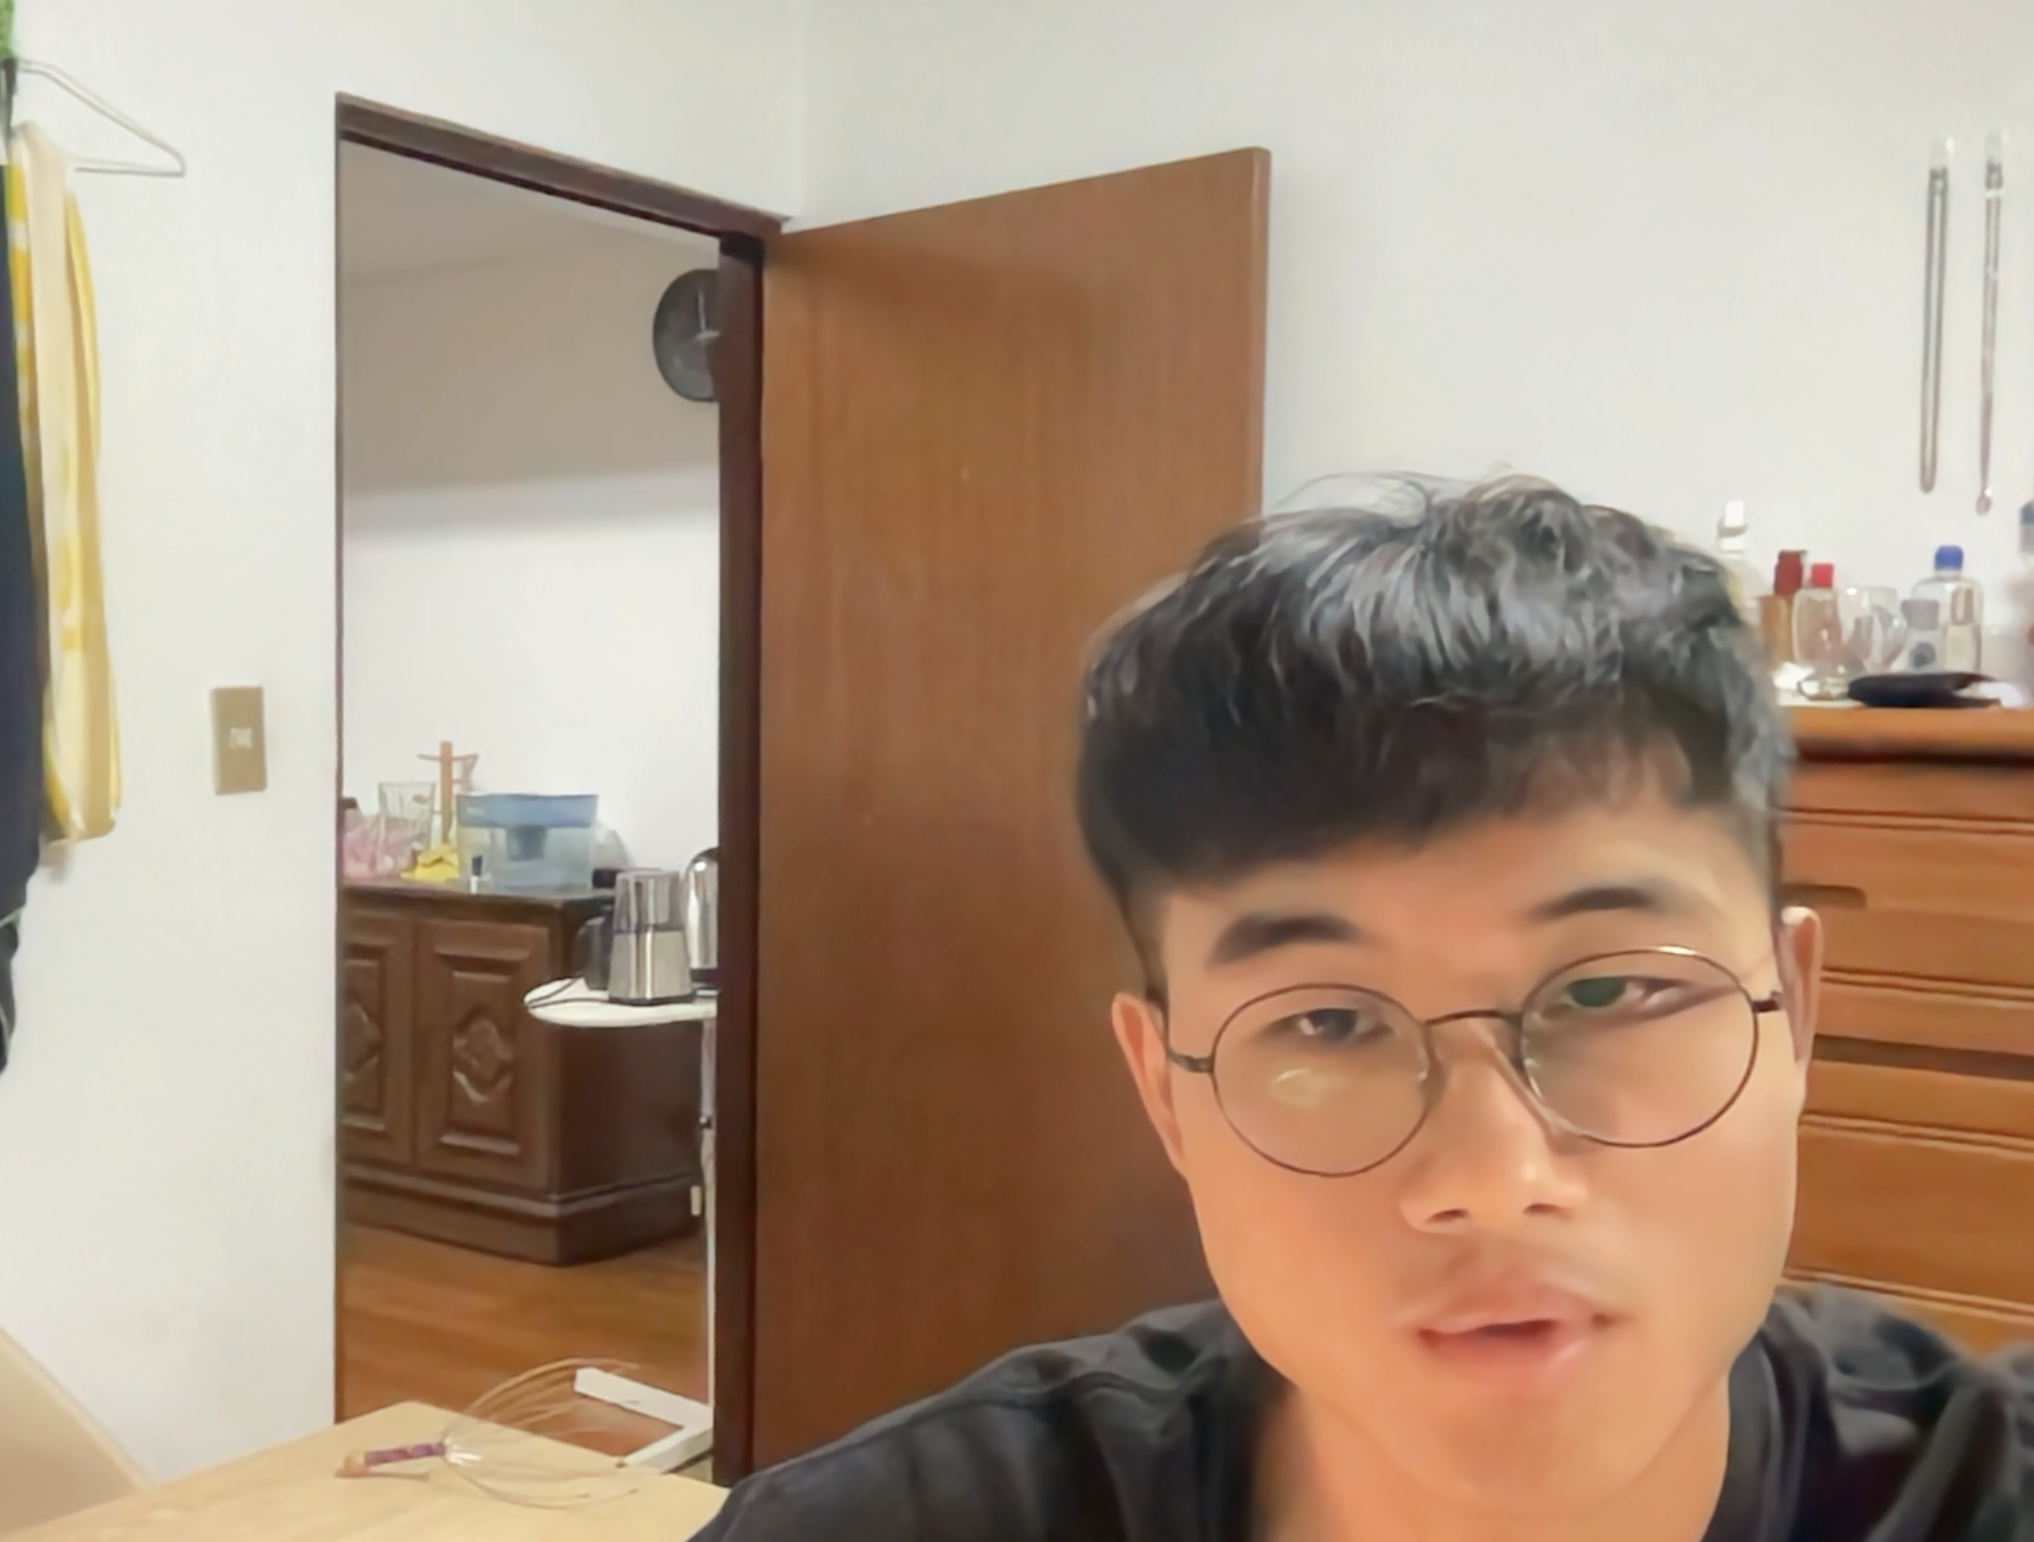Door Open: (303, 131, 829, 1401)
